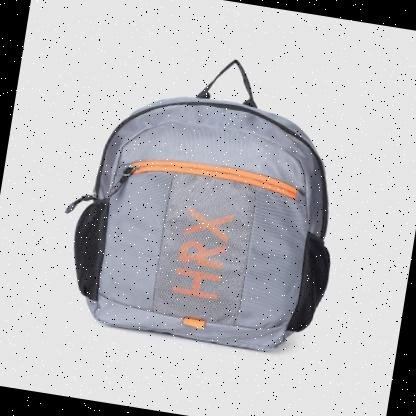bag: (50, 44, 361, 368)
